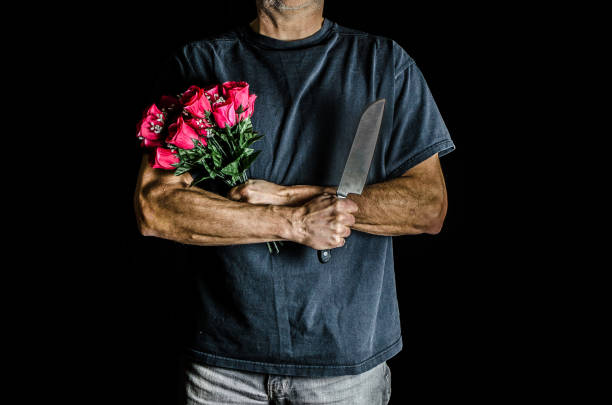knife: (317, 100, 386, 265)
